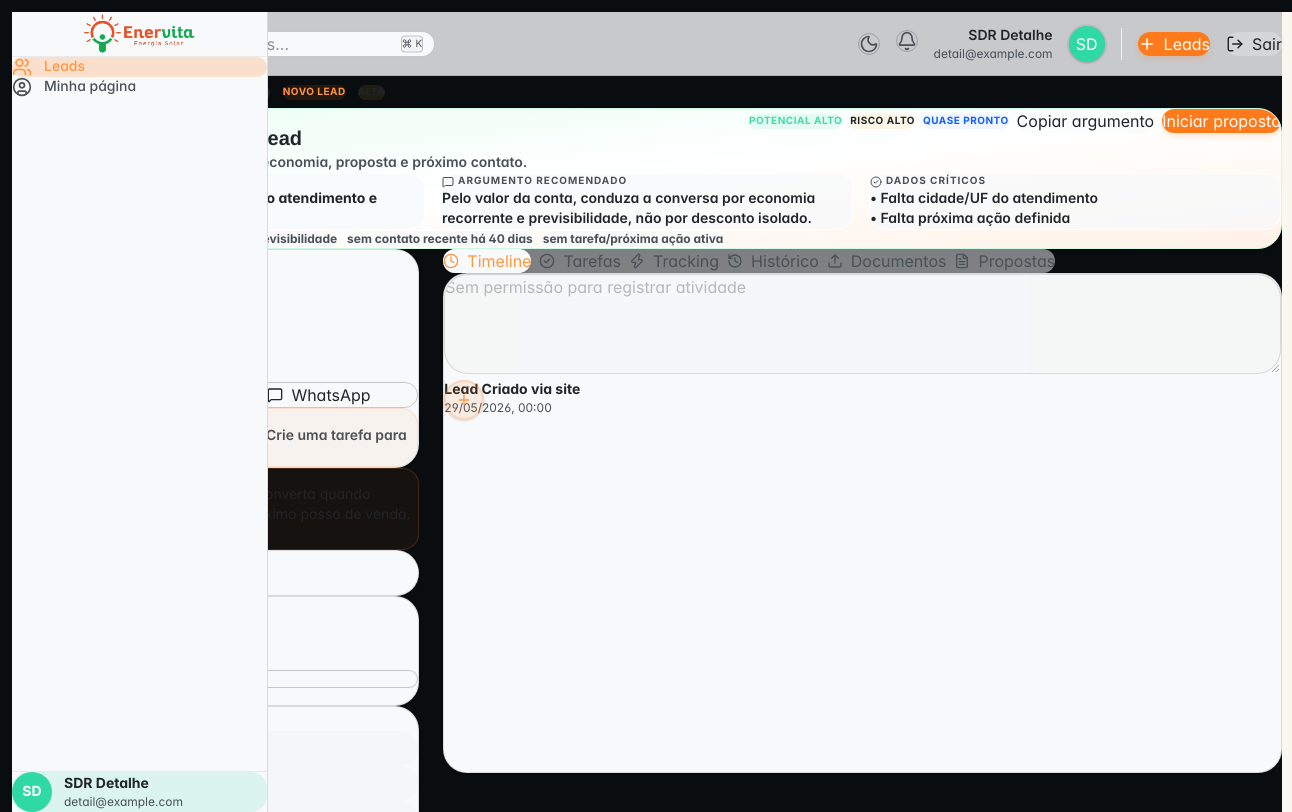
Lead detail history tab › renders history entries with actor, action, date, summary and field changes
The width and height of the screenshot is (1292, 812).
Expected: the heading "Lead com Histórico" is shown, x1=48 y1=76 x2=271 y2=108
Click the button "Histórico" at [773, 261], box x1=727 y1=249 x2=819 y2=273
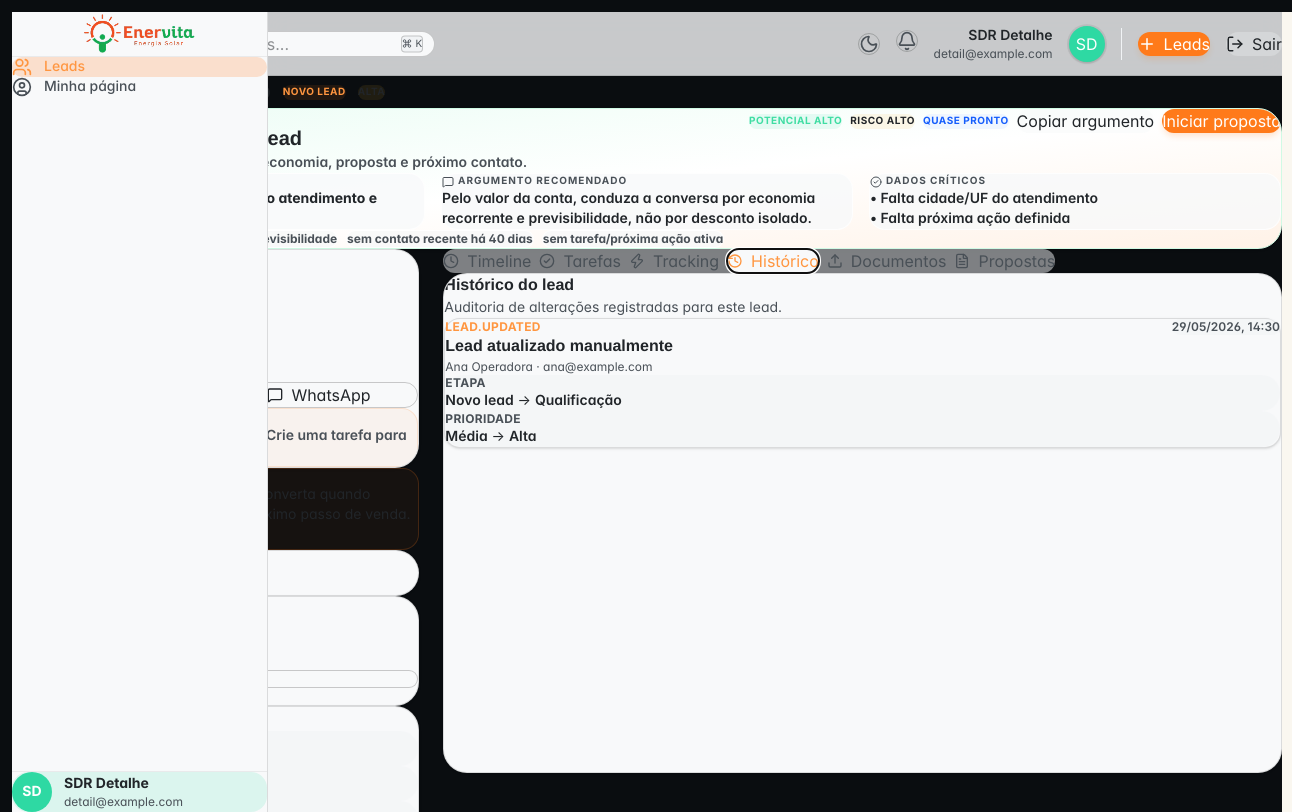
Expected: the heading "Lead atualizado manualmente" is shown, x1=445 y1=335 x2=673 y2=359
Expected: the text "lead.updated" is shown, x1=445 y1=319 x2=541 y2=334
Expected: the text "Ana Operadora · ana@example.com" is shown, x1=445 y1=359 x2=673 y2=375
